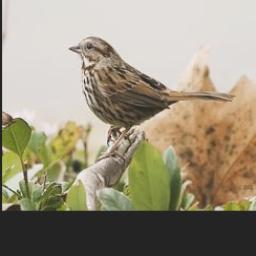Sparrow: (69, 34, 236, 163)
